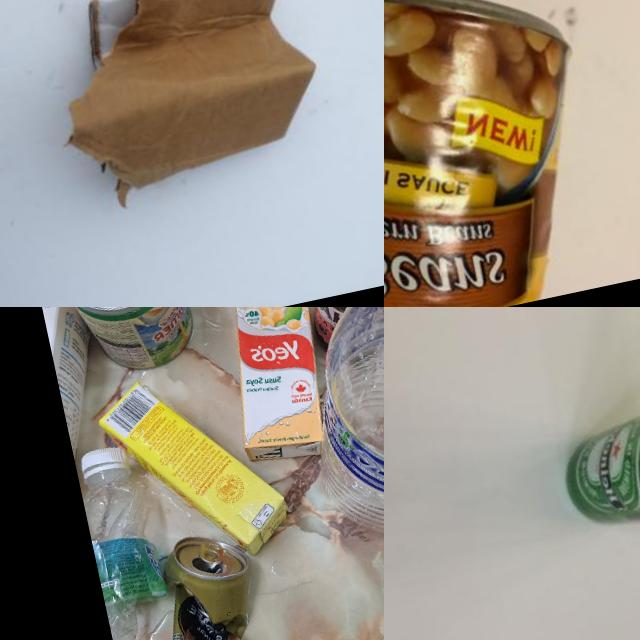aba de lata: (196, 533, 228, 568)
caixinha: (93, 356, 291, 574), (203, 307, 342, 476), (27, 307, 114, 511)
garrafa de vidro: (548, 349, 640, 544)
garrafa plástica: (291, 307, 384, 548), (78, 462, 201, 640)
lata: (384, 0, 621, 307), (136, 527, 282, 640), (45, 307, 198, 380)
papelão: (30, 0, 333, 213)
tampa plástica: (74, 438, 130, 477)
